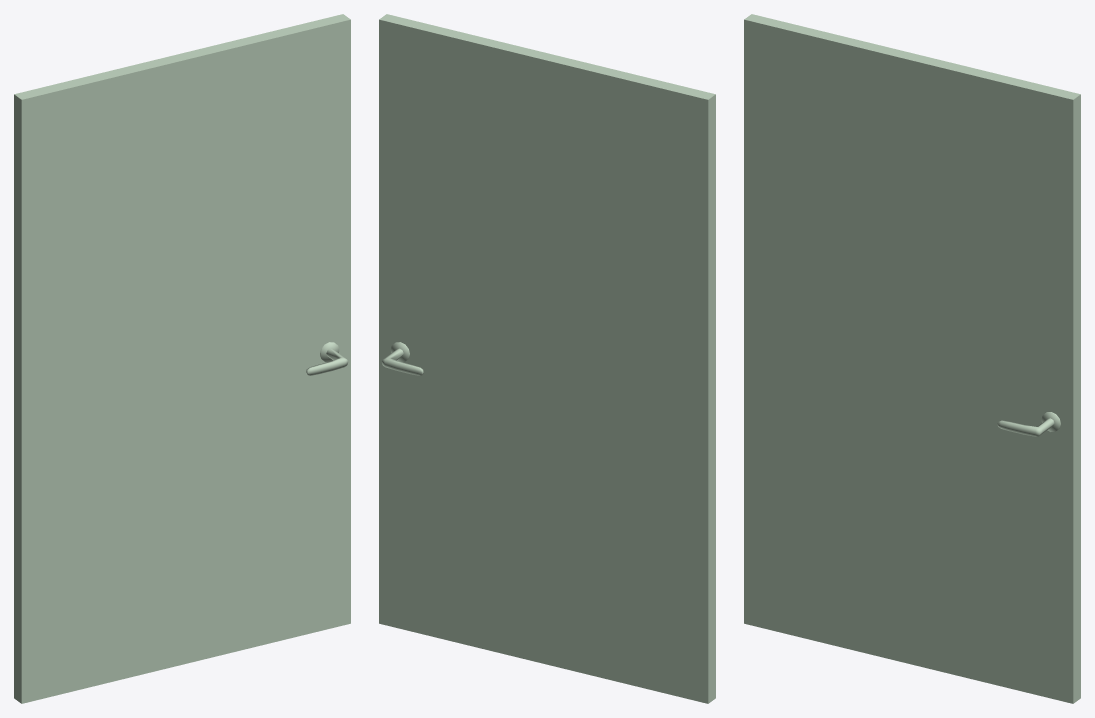
The model's file is Door01.fbx.
3 views of the same model, side by side, from view 1: azimuth 30°, elevation 25°; view 2: azimuth 150°, elevation 25°; view 3: azimuth 330°, elevation 25° (orthographic).
Visible parts, largest first — view 1: Door, Knob; view 2: Door, Knob; view 3: Door, Knob.
Boxes of the visible parts, x1=… form: Door: x1=14, y1=14, x2=350, y2=703; Knob: x1=306, y1=348, x2=348, y2=375; Door: x1=379, y1=14, x2=715, y2=703; Knob: x1=381, y1=348, x2=423, y2=375; Door: x1=744, y1=14, x2=1080, y2=703; Knob: x1=997, y1=418, x2=1054, y2=436.
Bounding box in the file's own units: 74.6 × 131 × 16.02.
